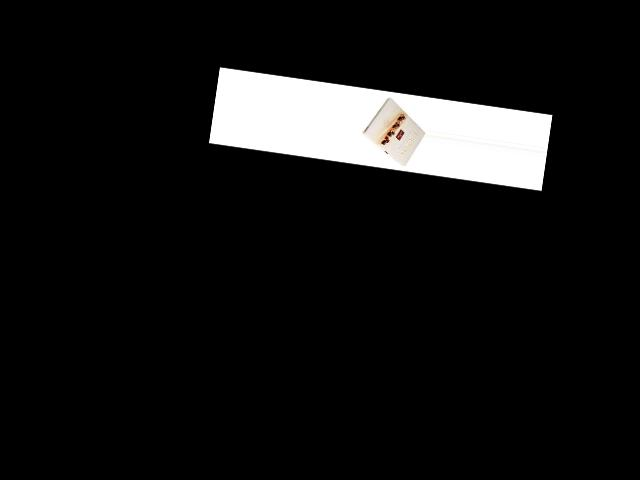chocolate: (357, 89, 429, 168)
